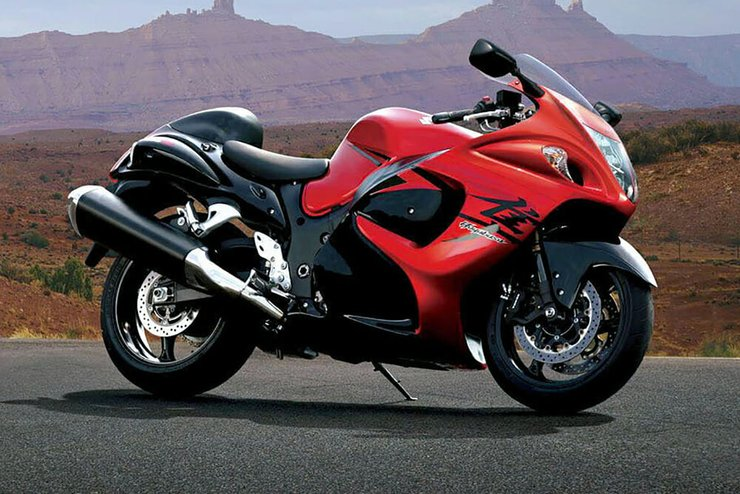bike: (65, 59, 659, 410)
